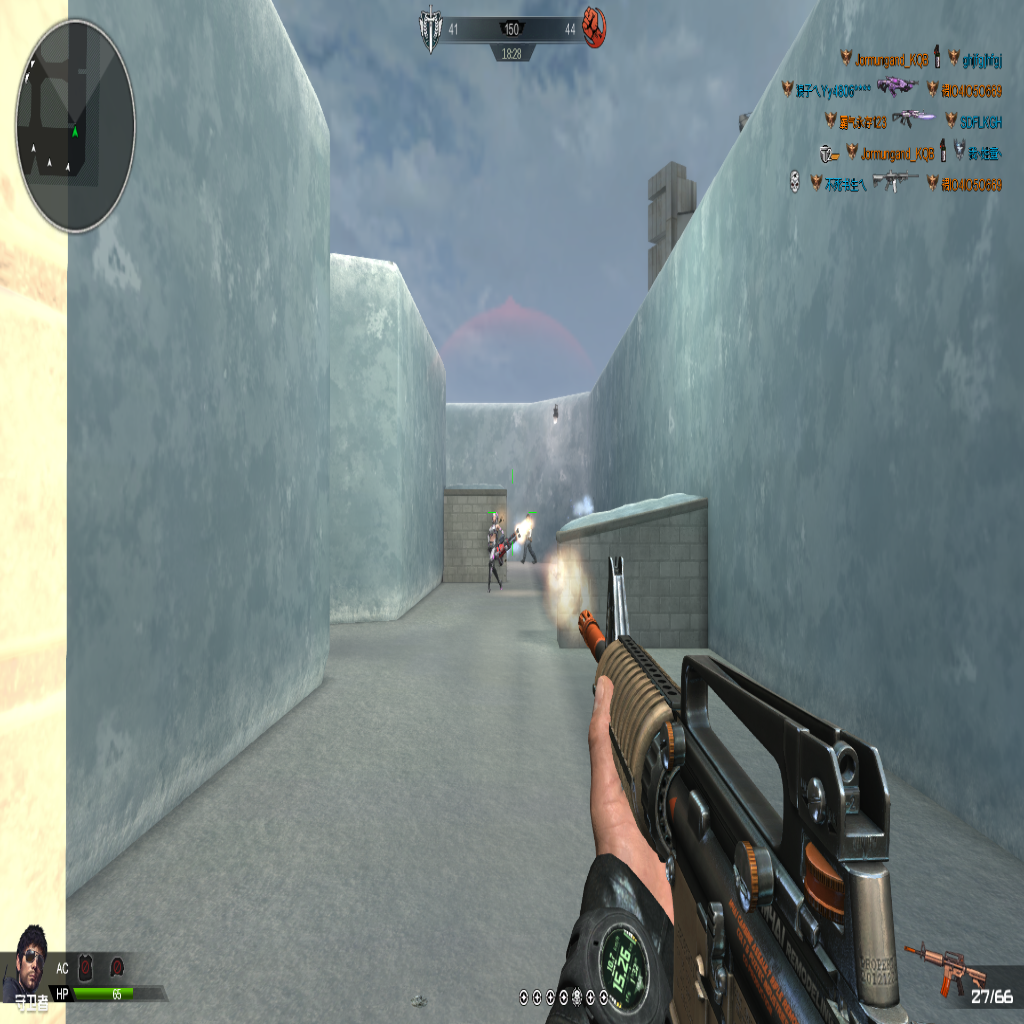tt: (486, 513, 502, 588), (520, 509, 538, 566)
